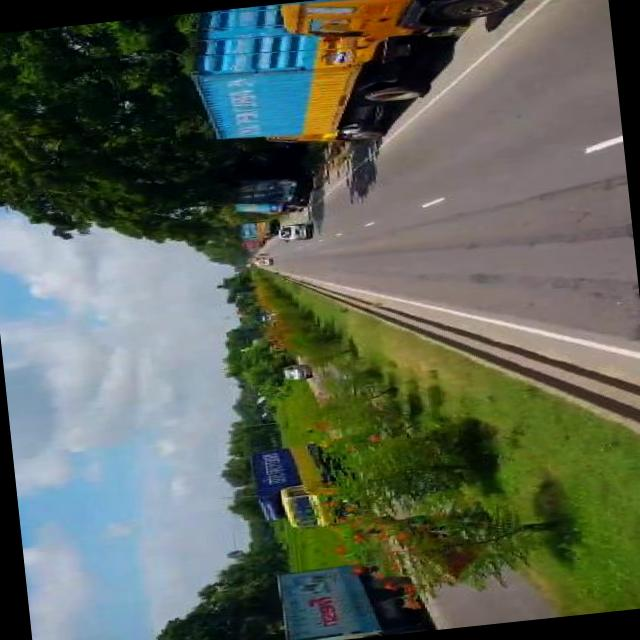truck: (185, 0, 430, 165), (265, 551, 430, 640), (244, 435, 357, 534), (275, 219, 315, 243)
